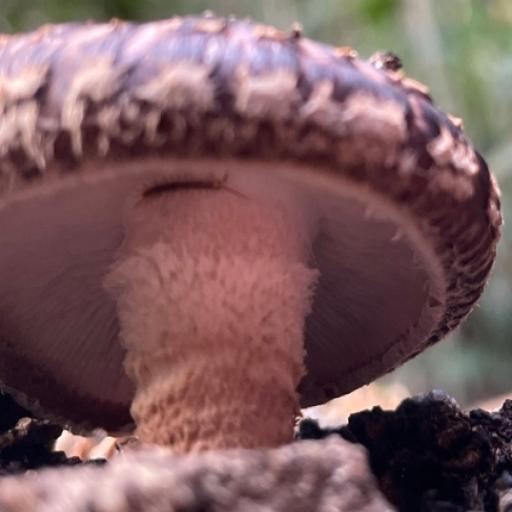Shiitake Mushroom: (5, 30, 496, 446)
